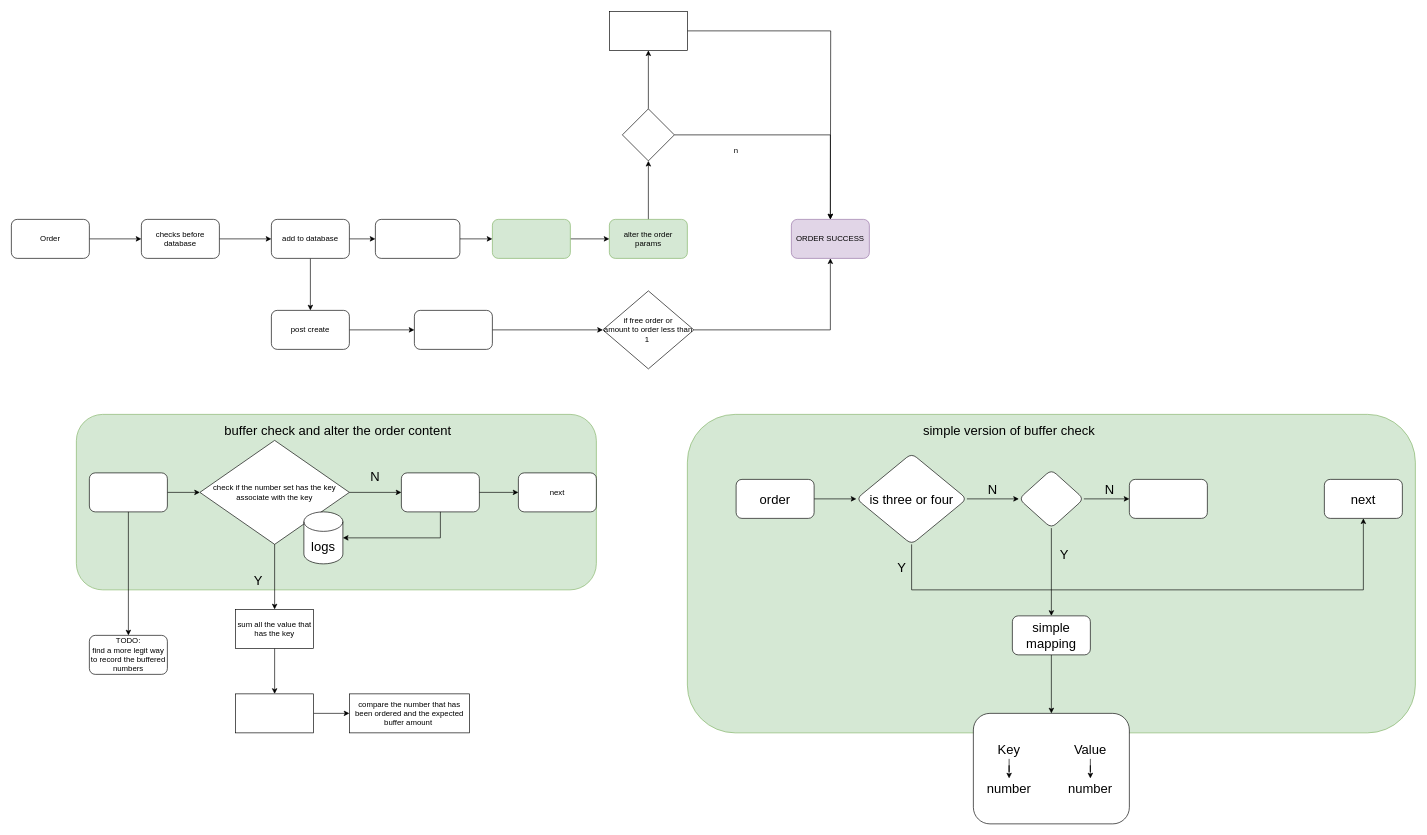
Some shapes in this 1427 by 835 pixel diagram are drawn without their labels. The shapes that lost their labels are listed below. From the top down, each one's centre as x and y in pixels, then its label:
point (648, 30): puppeteer order
point (648, 134): need order?
point (417, 238): publisher create order
point (531, 238): Banker Buffer Check
point (453, 329): calculate "real amount"
point (128, 492): key: game; number;
point (440, 492): add the log
point (1051, 498): car?
point (274, 713): check the banker buffer settings of that game
